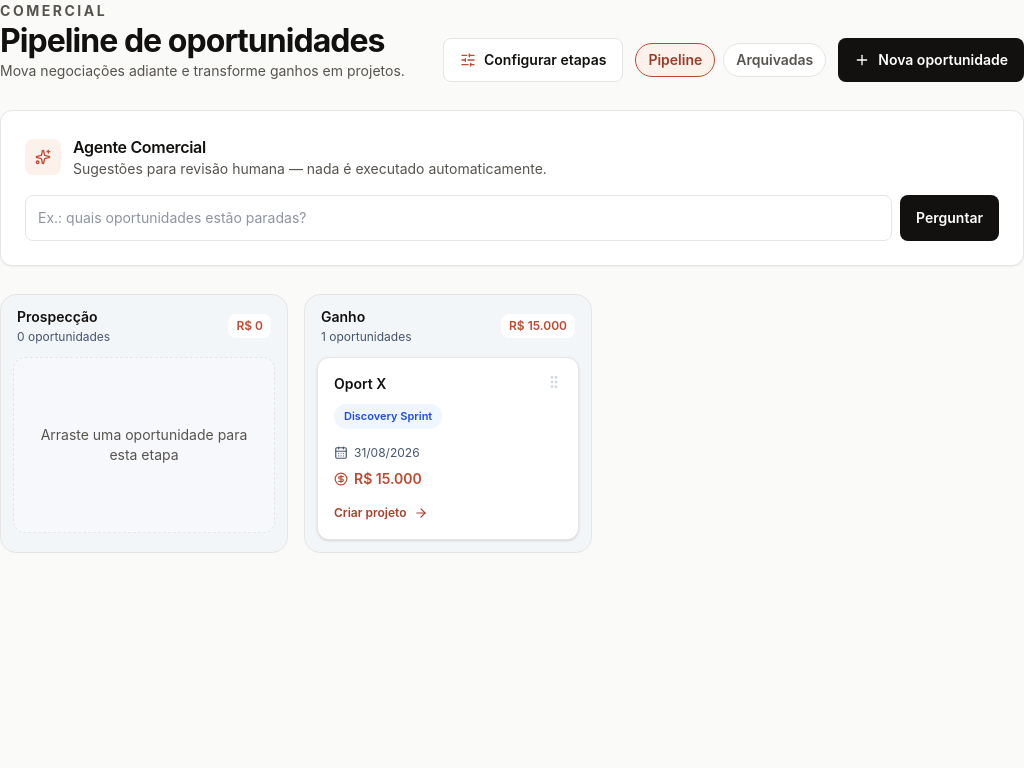
Test case: enviar sem arquivo avisa em vez de silenciar
The image size is (1024, 768).
What coordinates should you click on to do the following:
click the text "Oport X"
I would click on:
 (360, 384)
Its box is [334,374,386,394].
(page scrolled)
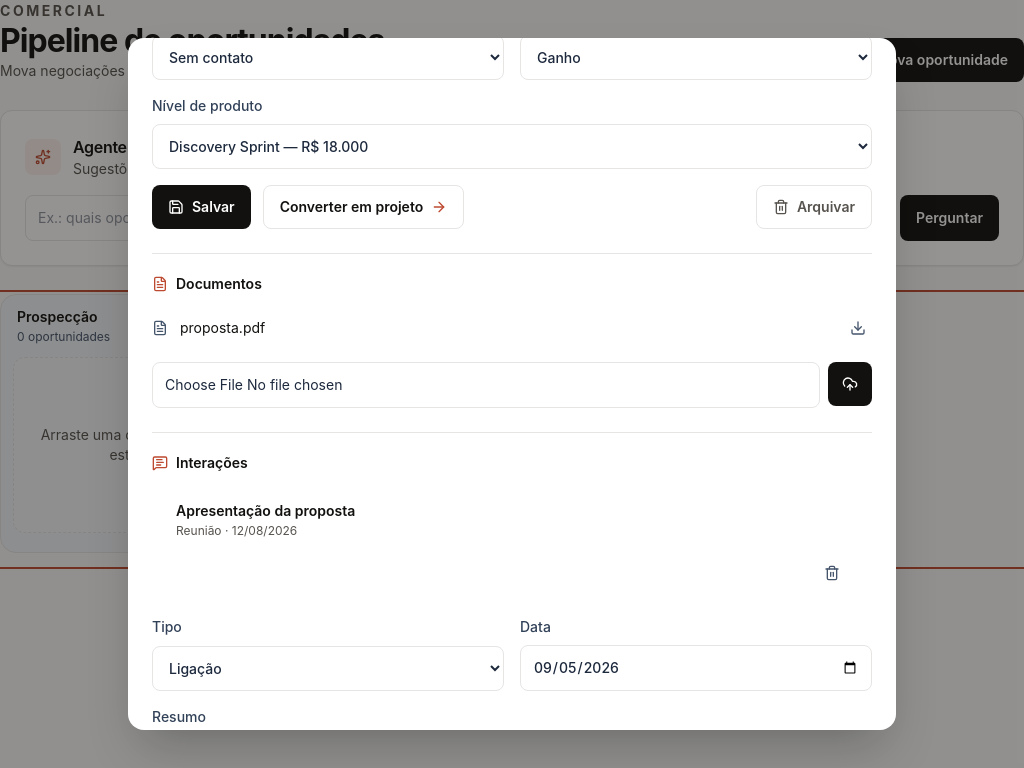
What coordinates should you click on to do the following:
click the button named "Enviar documento"
I would click on:
 (850, 384)
Its box is [828,362,872,406].
(page scrolled)
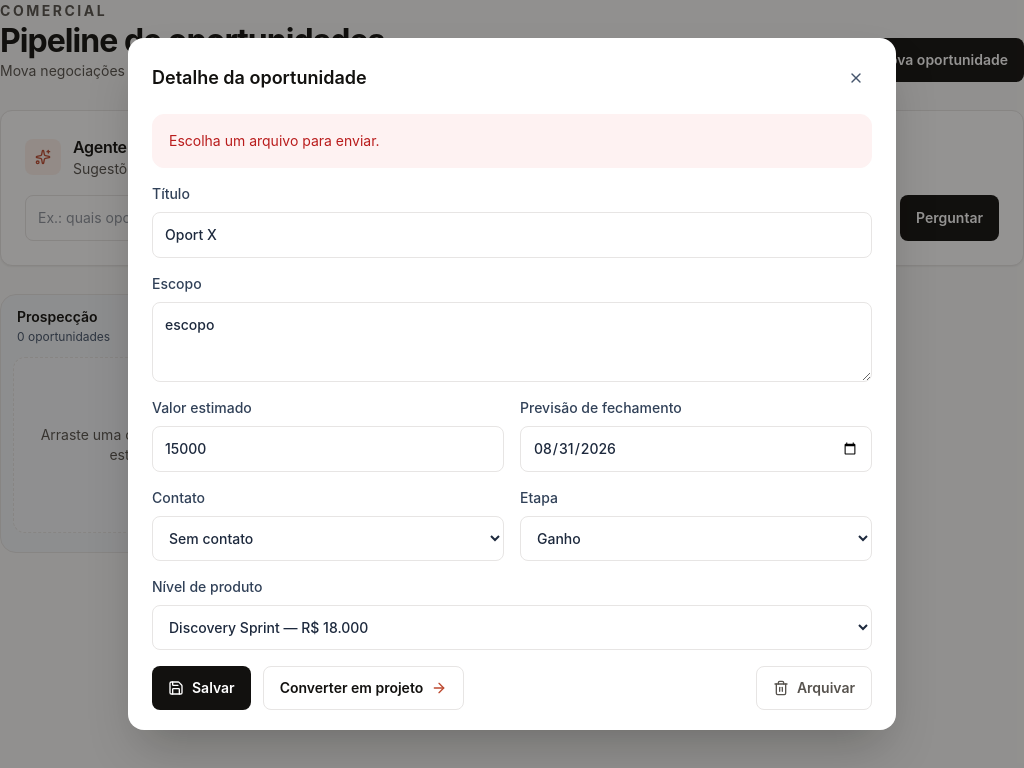
Expected: the text "Escolha um arquivo para enviar." is shown, [152,114,872,168]
